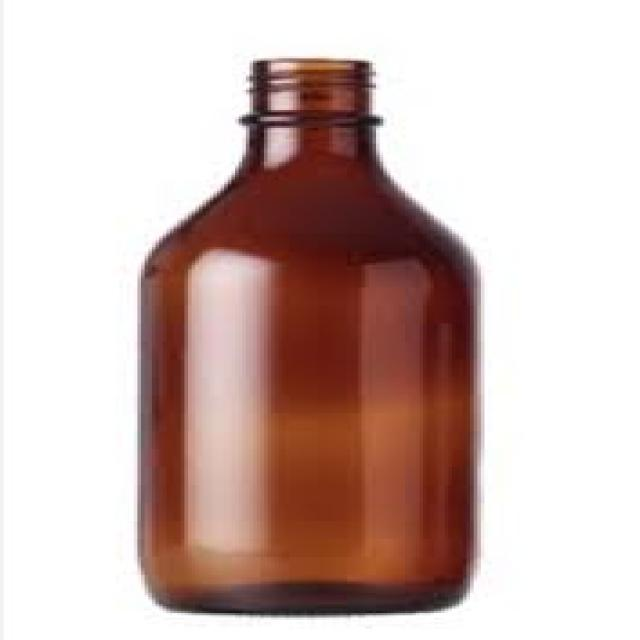glass: (134, 56, 470, 618)
